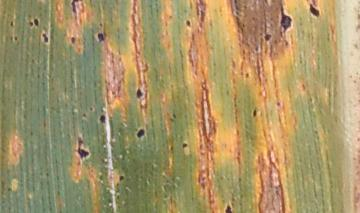tarspot: (279, 6, 292, 32), (77, 137, 91, 159), (308, 3, 321, 17), (70, 1, 80, 14), (135, 127, 146, 137), (136, 86, 144, 99), (96, 32, 105, 43), (263, 33, 272, 43), (69, 36, 77, 45), (98, 114, 106, 123), (225, 204, 233, 213), (42, 33, 49, 43), (181, 141, 188, 149), (185, 19, 192, 27), (33, 18, 39, 26), (252, 109, 258, 117), (9, 20, 15, 27), (275, 101, 282, 107), (97, 22, 104, 28), (81, 112, 87, 118), (29, 21, 34, 27), (119, 176, 125, 181), (245, 72, 250, 78), (88, 107, 94, 112), (172, 114, 177, 119), (14, 36, 18, 42)
